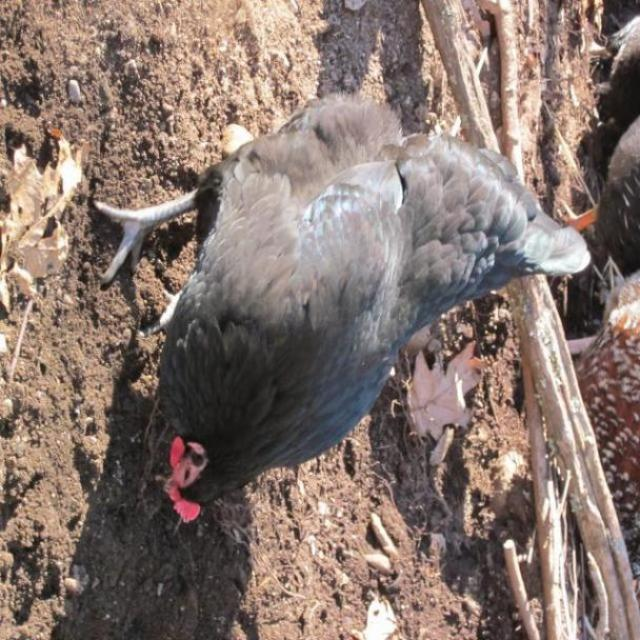Chicken: (98, 89, 596, 523)
